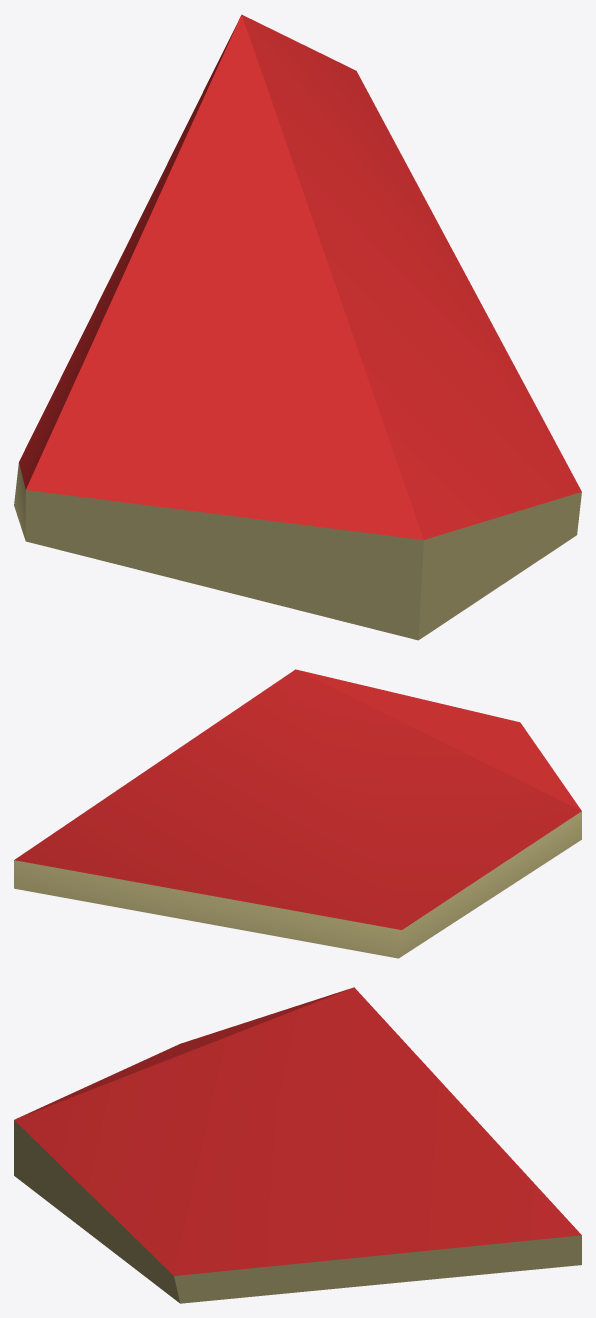
File: SkinGib.glb
3 renders of one model, top to bottom at view 1: azimuth 30°, elevation 25°; view 2: azimuth 150°, elevation 25°; view 3: azimuth 270°, elevation 25°, orthographic. The views are drawn at different scales.
Visible parts, largest first — view 1: SkinGib; view 2: SkinGib; view 3: SkinGib.
Boxes of the visible parts, box(x1,y1,x2,y2) form: SkinGib: box(14, 14, 581, 640); SkinGib: box(14, 669, 581, 958); SkinGib: box(14, 987, 581, 1303).
Size of the model in its own units: 1.04 by 0.6665 by 1.3.
Materials: 1 (1 with a texture image).
